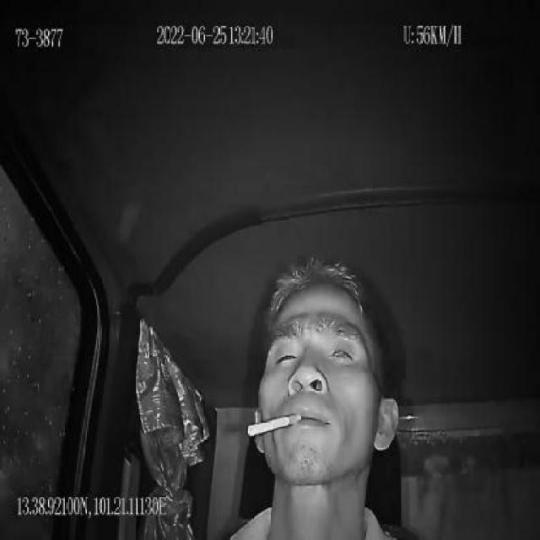smoking: (247, 413, 303, 438)
